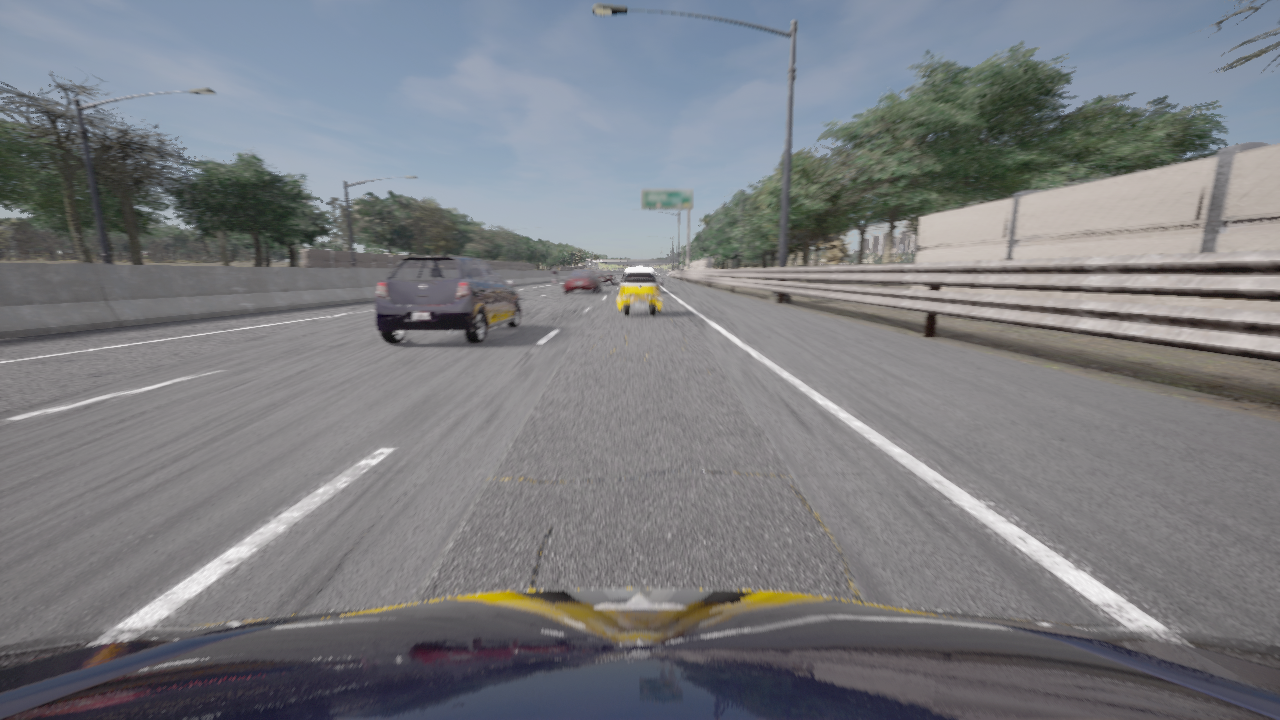cyclist: (0, 588, 1279, 719), (375, 256, 520, 343), (616, 267, 663, 316), (564, 270, 601, 293), (595, 269, 615, 284), (584, 267, 596, 272), (554, 277, 557, 286)
